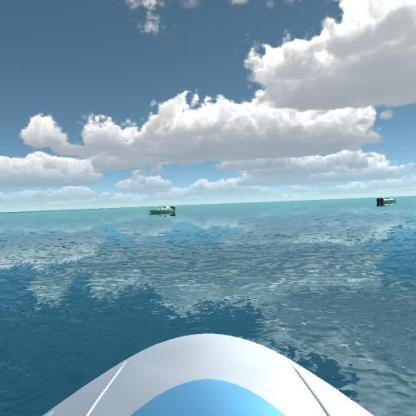usv0: (148, 201, 178, 218), (376, 194, 399, 208)
